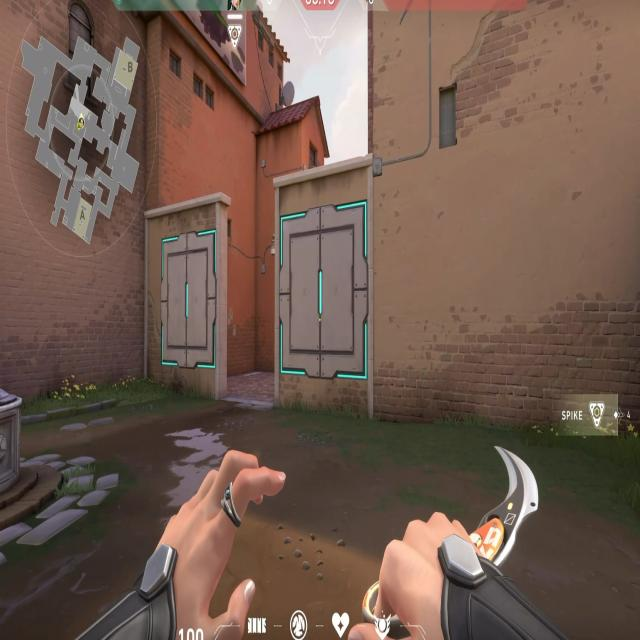Mid_Wall: (273, 157, 376, 416), (143, 206, 227, 396)
